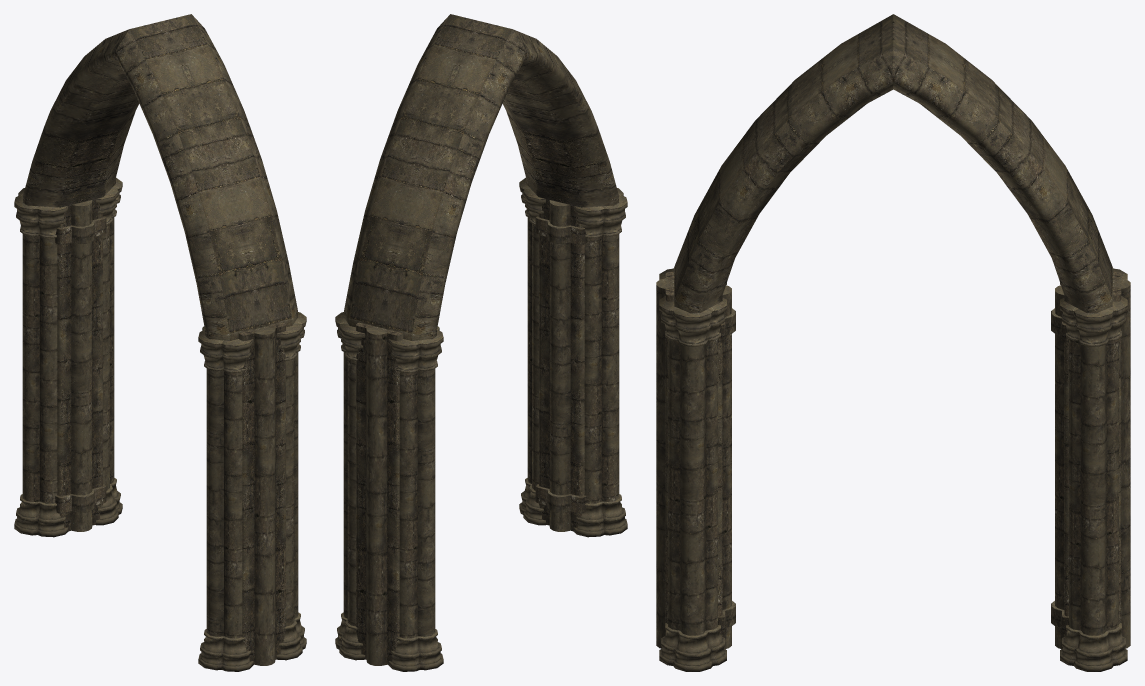
The model's file is NC_door_frame_large.DAE.
3 renders of one model, left to right at view 1: azimuth 30°, elevation 25°; view 2: azimuth 150°, elevation 25°; view 3: azimuth 270°, elevation 25°, orthographic. The views are drawn at different scales.
Visible parts, largest first — view 1: NC_doorframe_large; view 2: NC_doorframe_large; view 3: NC_doorframe_large.
Part boxes in pixels (bbox=[...]): NC_doorframe_large: bbox=[14, 14, 306, 671]; NC_doorframe_large: bbox=[335, 14, 627, 671]; NC_doorframe_large: bbox=[656, 14, 1130, 671].
Bounding box in the file's own units: 1.39 × 5.16 × 7.37.
